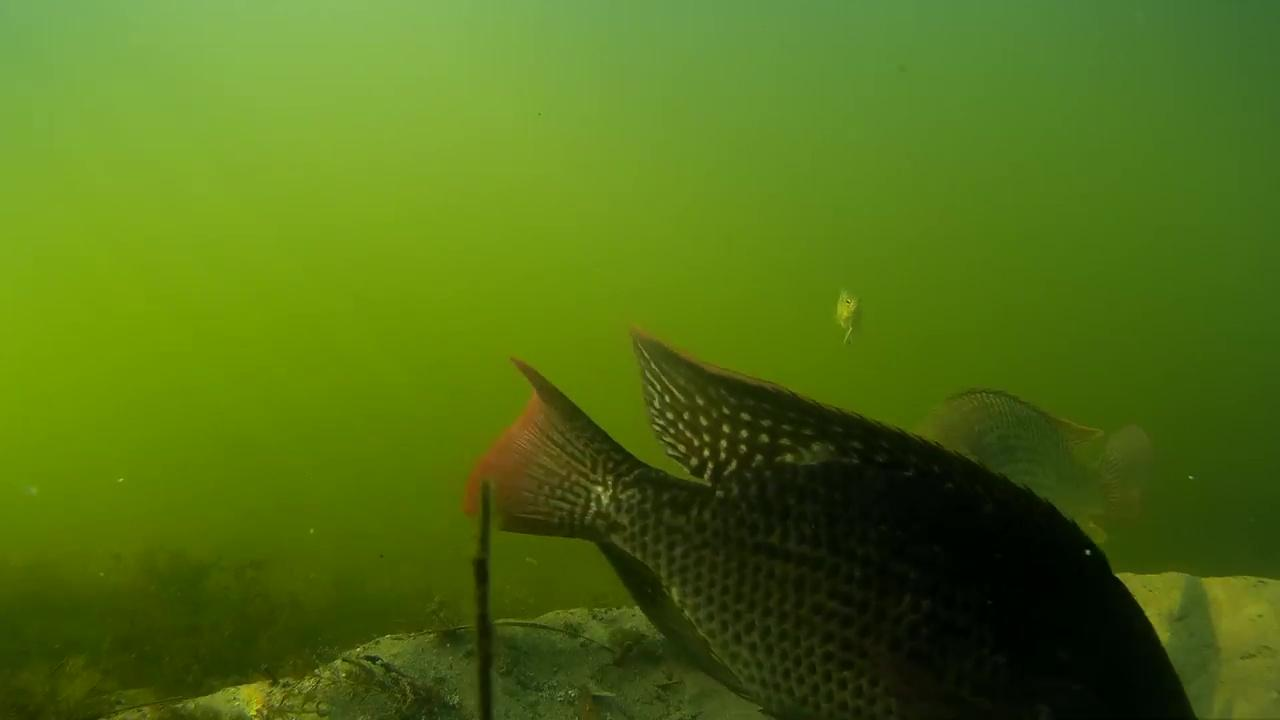Tilapia: (463, 320, 1200, 720), (909, 374, 1162, 560), (813, 286, 876, 340)
